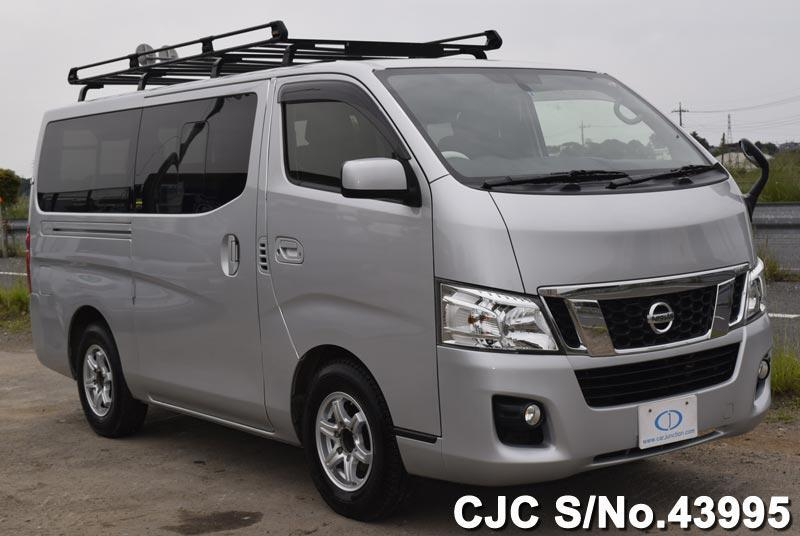Van: (35, 60, 781, 492)
